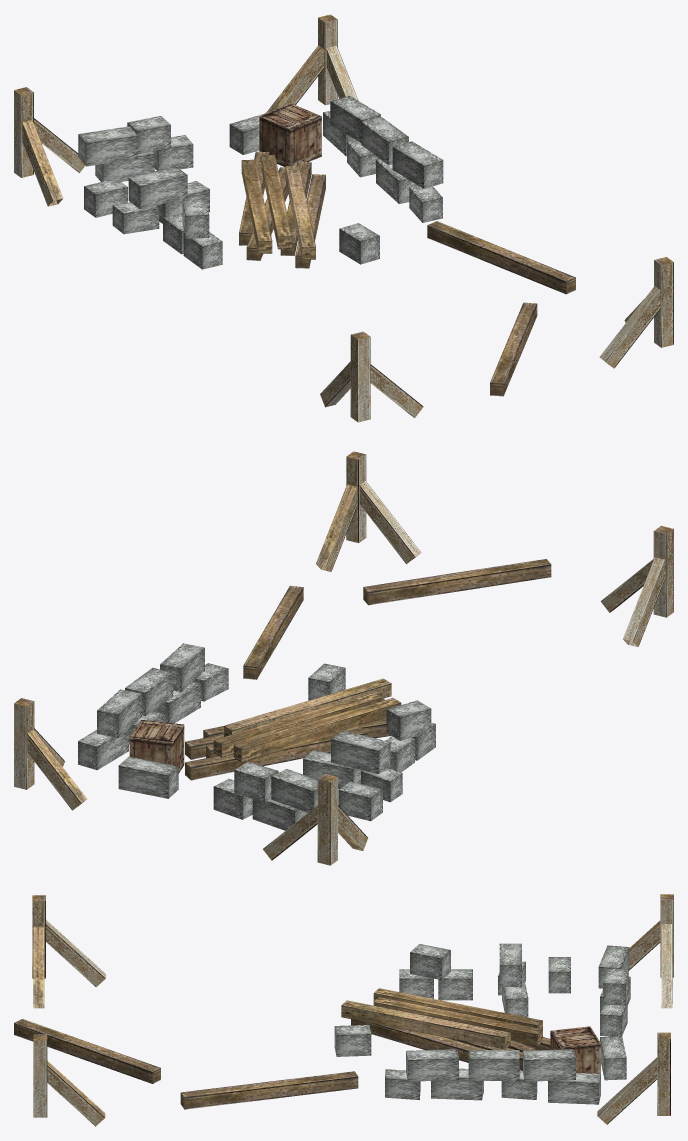
File: found_2x4_a.dae
The picture shows the model from 3 angles, top to bottom: view 1: azimuth 30°, elevation 25°; view 2: azimuth 150°, elevation 25°; view 3: azimuth 270°, elevation 25°; orthographic projection. The views are drawn at different scales.
Parts seen in each view (by area): view 1: Object14_Pivot-Pivot; view 2: Object14_Pivot-Pivot; view 3: Object14_Pivot-Pivot.
Boxes of the visible parts, <box> form: Object14_Pivot-Pivot: <box>14,14,673,422</box>; Object14_Pivot-Pivot: <box>14,451,673,865</box>; Object14_Pivot-Pivot: <box>14,894,673,1126</box>.
Size of the model in its own units: 10.79 by 20.63 by 3.
